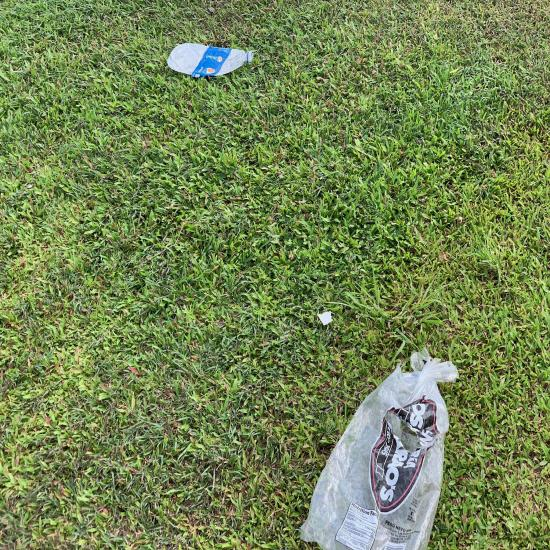Metal bottle cap: (457, 307, 518, 383)
